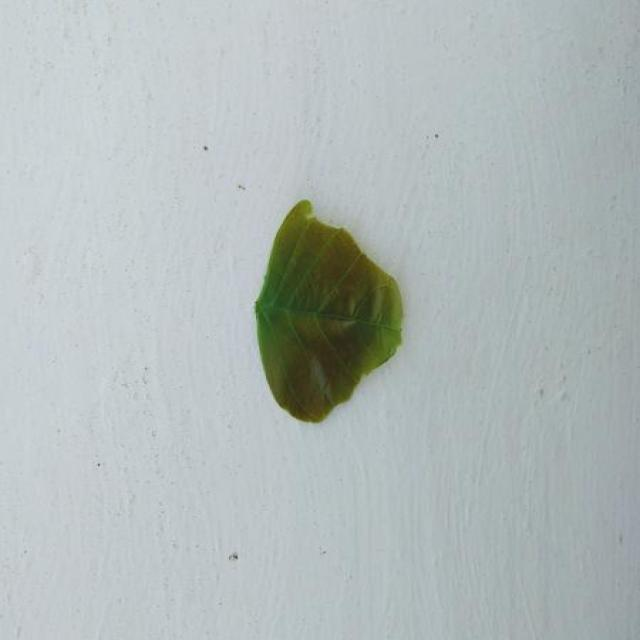honge: (255, 200, 403, 422)
leaf rust: (257, 201, 380, 421)
